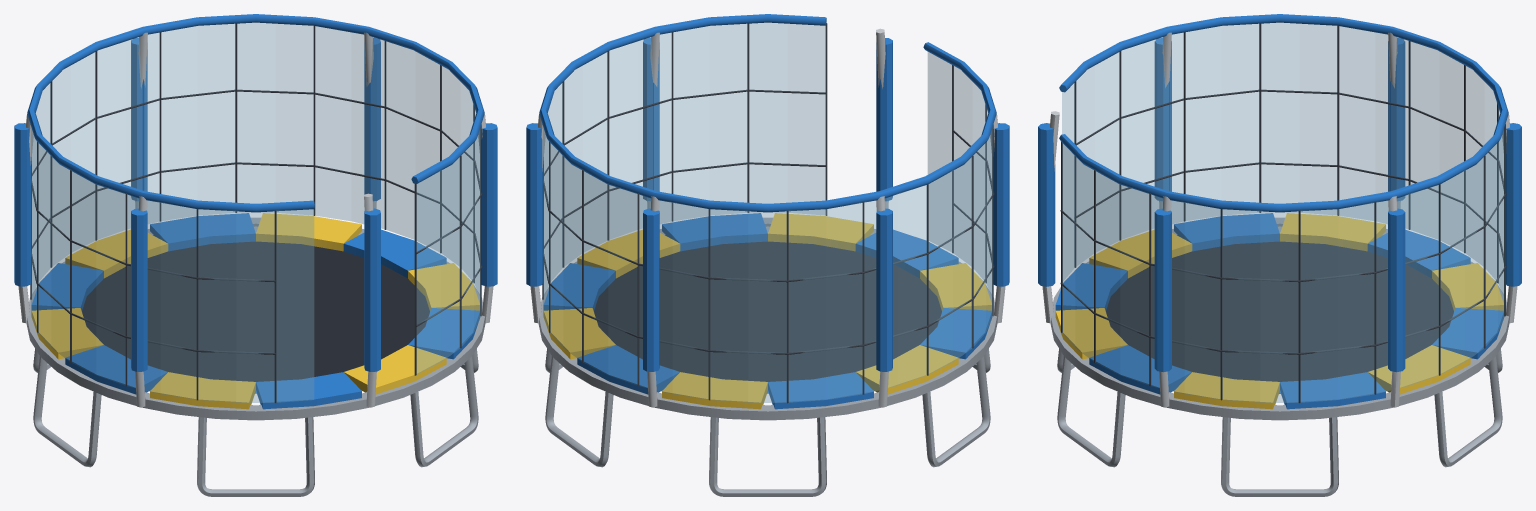
Rendered from cama_elastica.glb.
The picture shows the model from 3 angles, left to right: view 1: azimuth 30°, elevation 25°; view 2: azimuth 150°, elevation 25°; view 3: azimuth 270°, elevation 25°; orthographic projection.
Parts seen in each view (by area): view 1: cama_elastica, lona; view 2: cama_elastica, lona; view 3: cama_elastica, lona.
Boxes of the visible parts, x1,y1,x2,y2 form: cama_elastica: (14, 14, 497, 496); lona: (82, 241, 429, 393); cama_elastica: (526, 14, 1009, 496); lona: (594, 241, 941, 393); cama_elastica: (1038, 14, 1521, 496); lona: (1106, 241, 1453, 393).
Bounding box in the file's own units: 3.72 × 2.62 × 3.92.
Materials: 2 (1 with a texture image).
